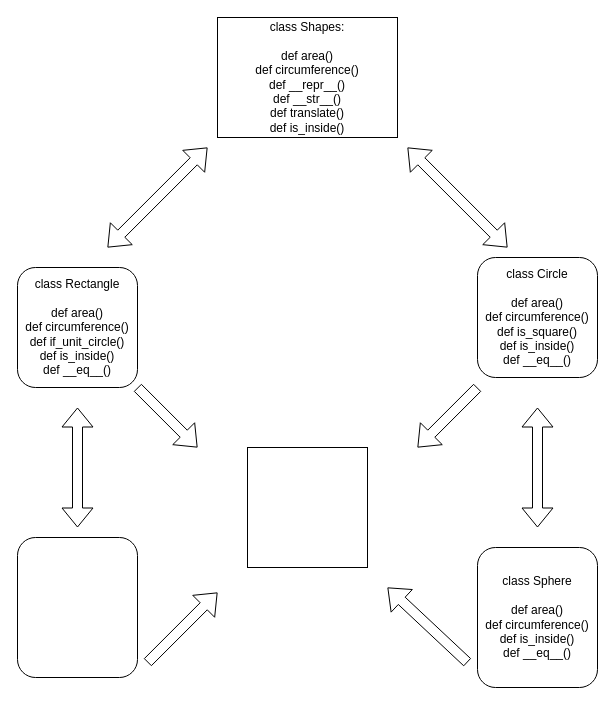
Some shapes in this 615 by 705 pixel diagram are drawn without their labels. Each missing label, with the centre of its shape:
"class Cube def area() def circumference() def is_inside() def __eq__()" goes at point 77,607.
"True False True False ValueError" goes at point 307,507.
